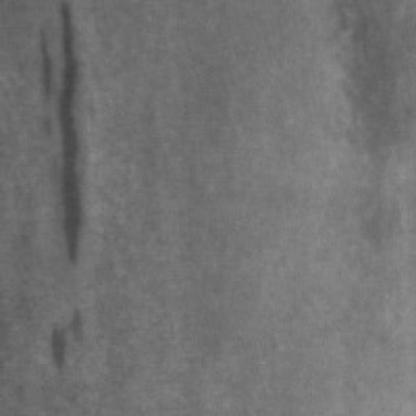inclusion: (36, 0, 96, 268), (50, 296, 96, 372)
